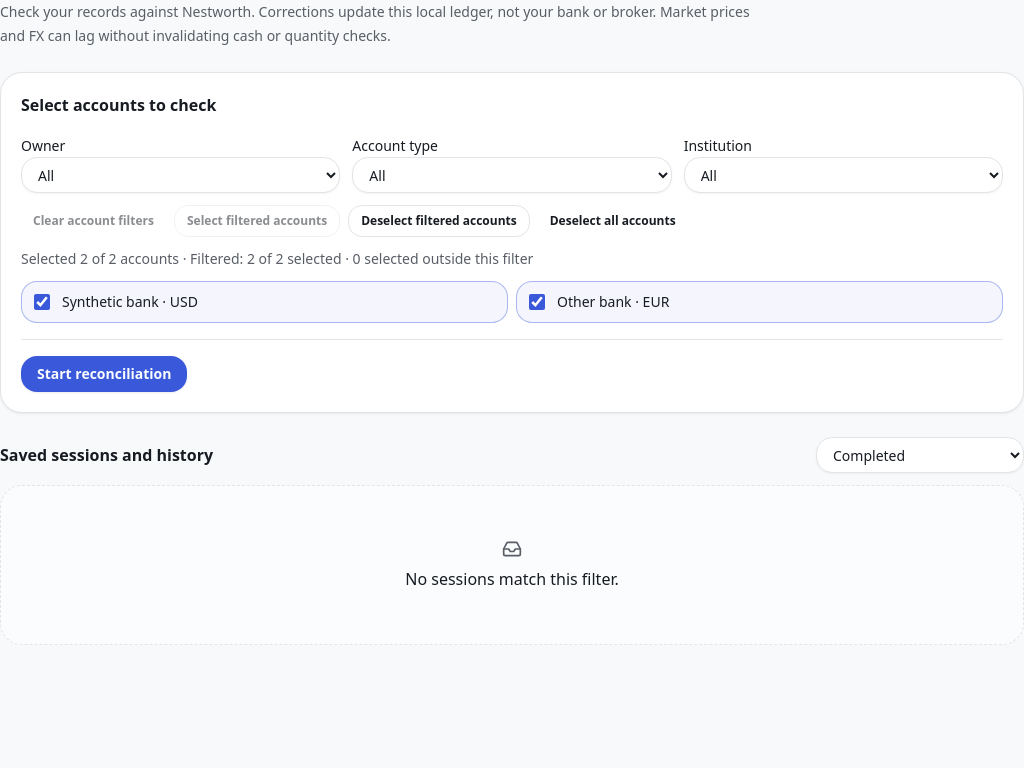
Test case: previews a selected subset and commits before entering the pending session
The image size is (1024, 768).
Click the checkbox labelled "Other bank · EUR" at (537, 302), box [529,294,545,310]
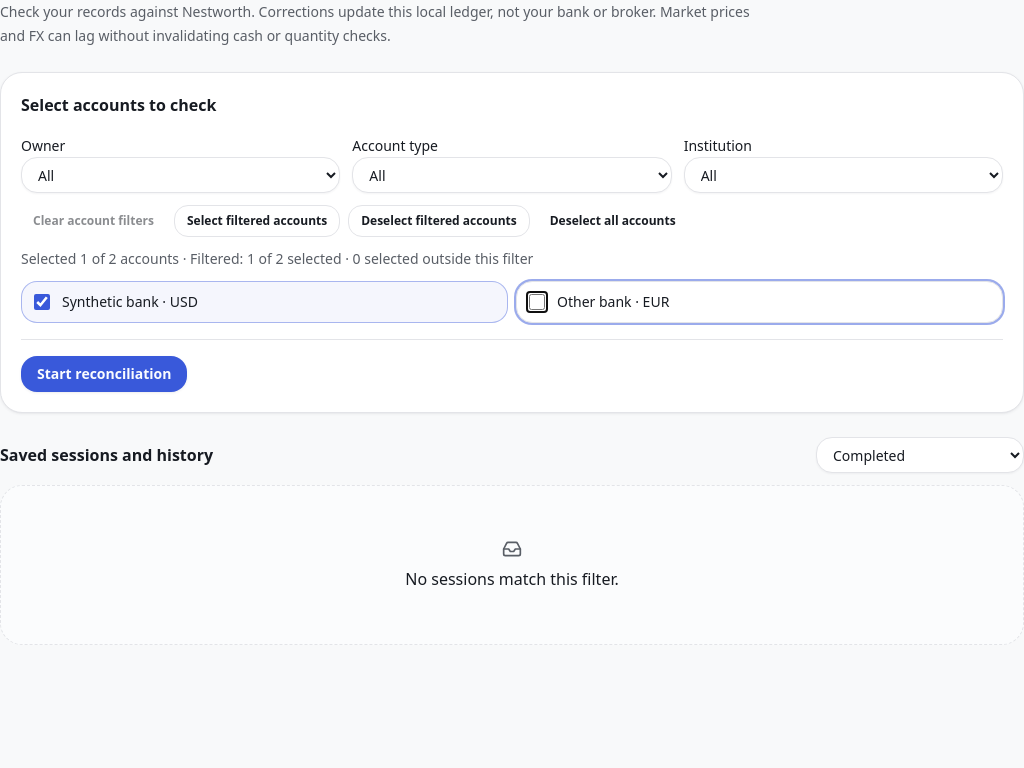
Click the button "Start reconciliation" at (104, 374), box [21,356,187,392]
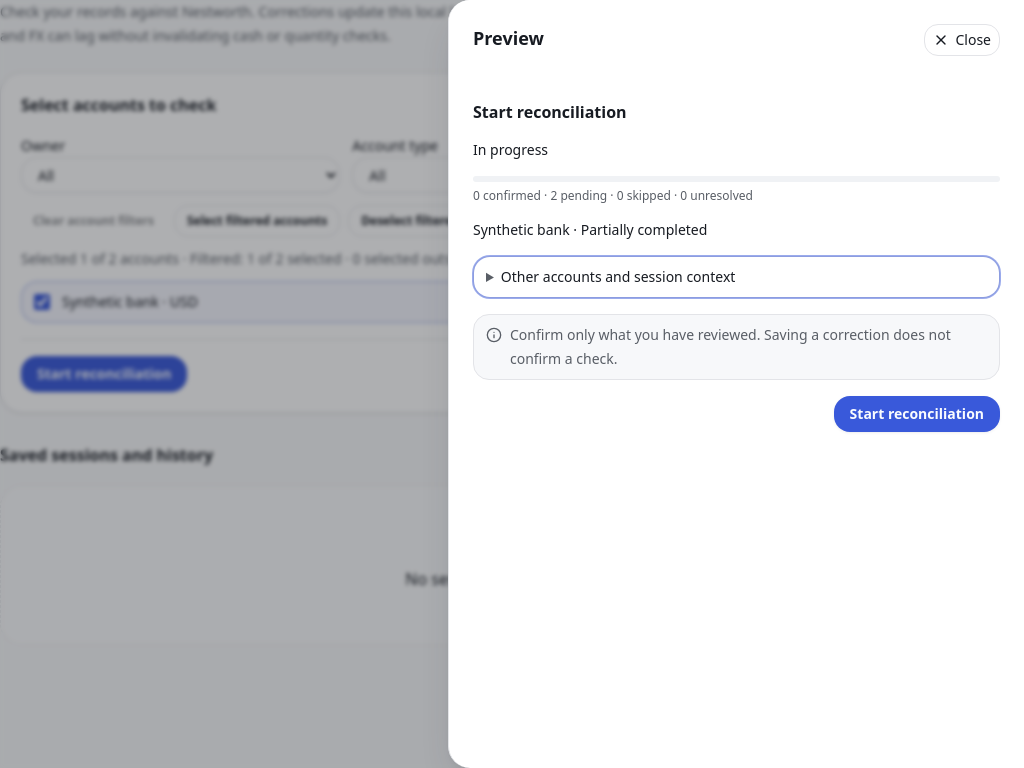
Click the button "Start reconciliation" at (917, 414), box [834,396,1000,432]
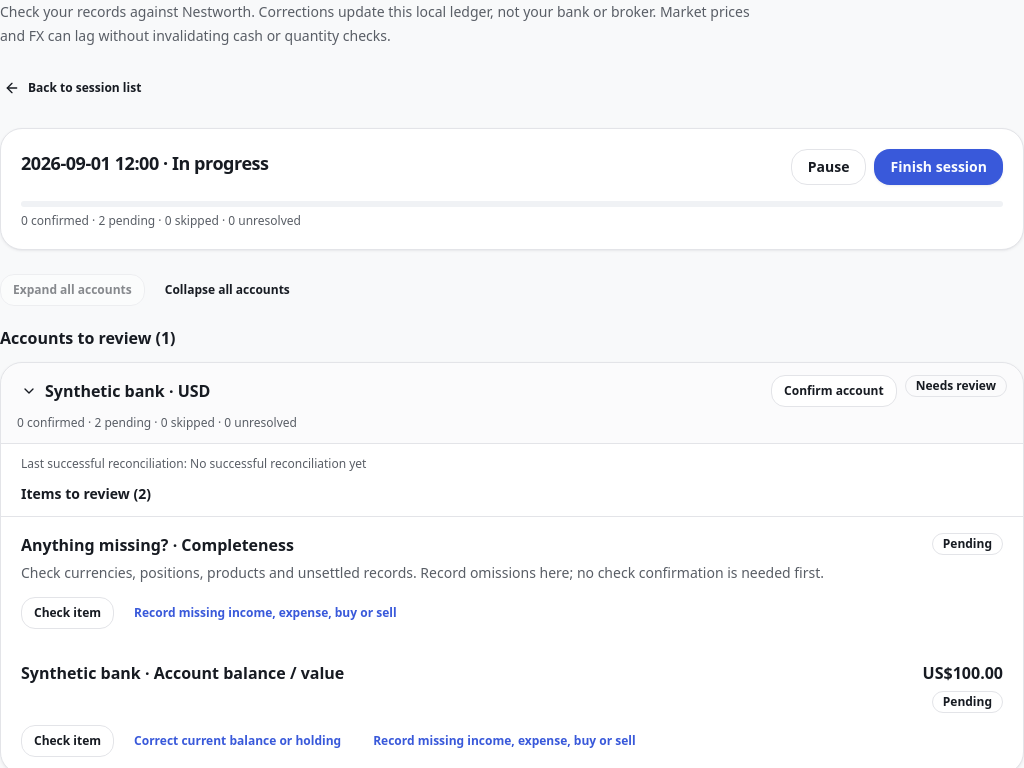
Check: the text "0 confirmed · 2 pending · 0 skipped · 0 unresolved" is shown, box [21,212,301,229]
Check: the button "Pause" is shown, box [791,149,866,185]
